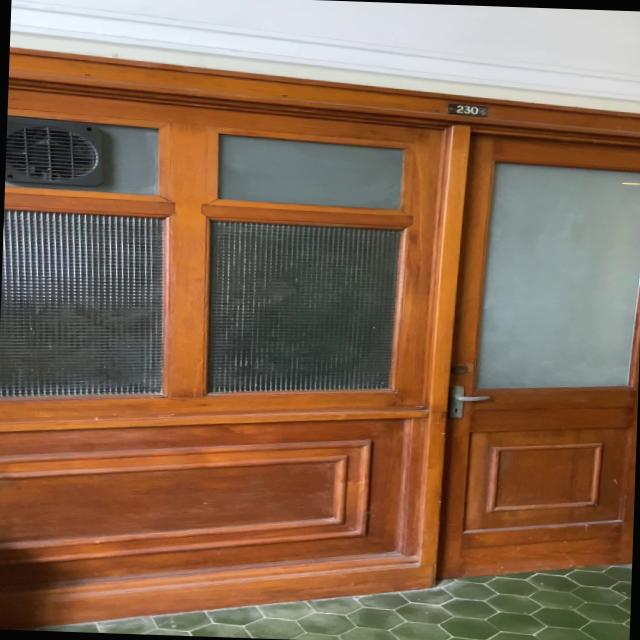room230: (446, 100, 490, 119)
